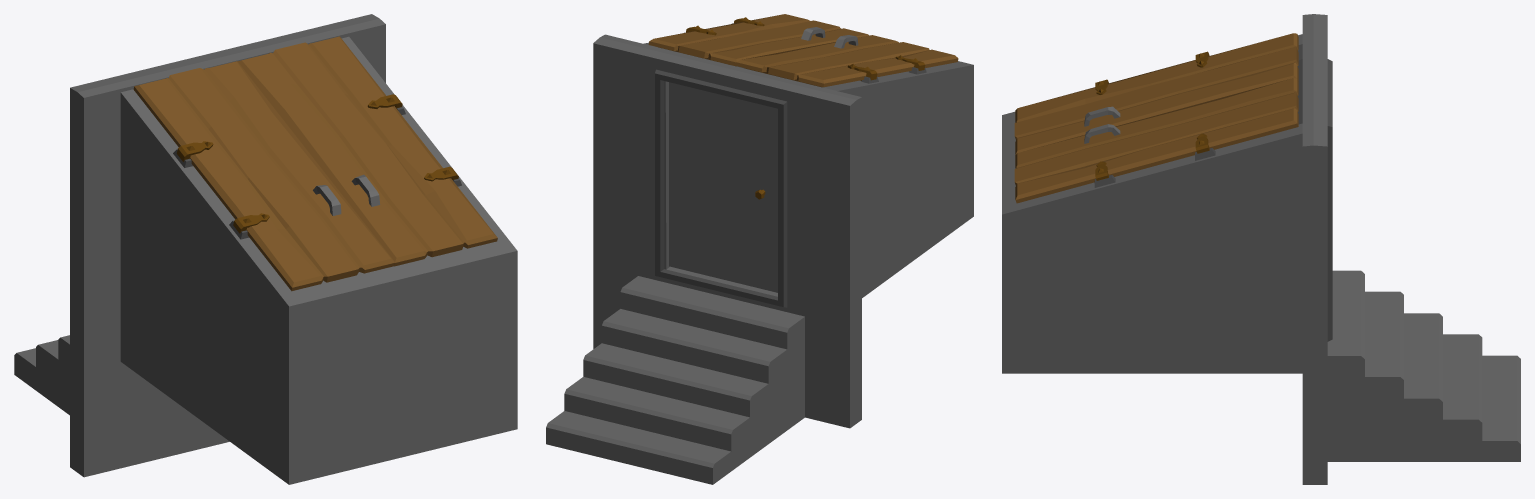
File: BasementEnter.fbx
3 renders of one model, left to right at view 1: azimuth 30°, elevation 25°; view 2: azimuth 150°, elevation 25°; view 3: azimuth 270°, elevation 25°, orthographic. The views are drawn at different scales.
Visible parts, largest first — view 1: BasementEntrance, BasementEntranceDoorL, BasementEntranceDoorR; view 2: BasementEntrance, BasementDoor, BasementEntranceDoorL, BasementEntranceDoorR; view 3: BasementEntrance, BasementEntranceDoorR, BasementEntranceDoorL.
Boxes of the visible parts, x1,y1,x2,y2 form: BasementEntrance: (14, 14, 517, 484); BasementEntranceDoorL: (133, 61, 395, 291); BasementEntranceDoorR: (238, 36, 497, 266); BasementEntrance: (546, 23, 973, 484); BasementDoor: (669, 82, 777, 292); BasementEntranceDoorL: (736, 35, 958, 87); BasementEntranceDoorR: (648, 14, 868, 66); BasementEntrance: (1002, 14, 1520, 484); BasementEntranceDoorR: (1014, 78, 1298, 203); BasementEntranceDoorL: (1014, 33, 1298, 154).
Size of the model in its own units: 250 by 304 by 416.
